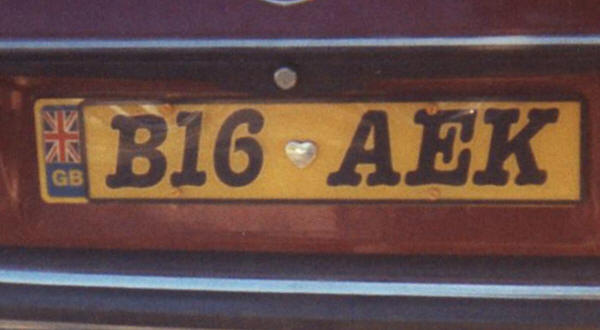license_plate: (80, 99, 588, 204)
